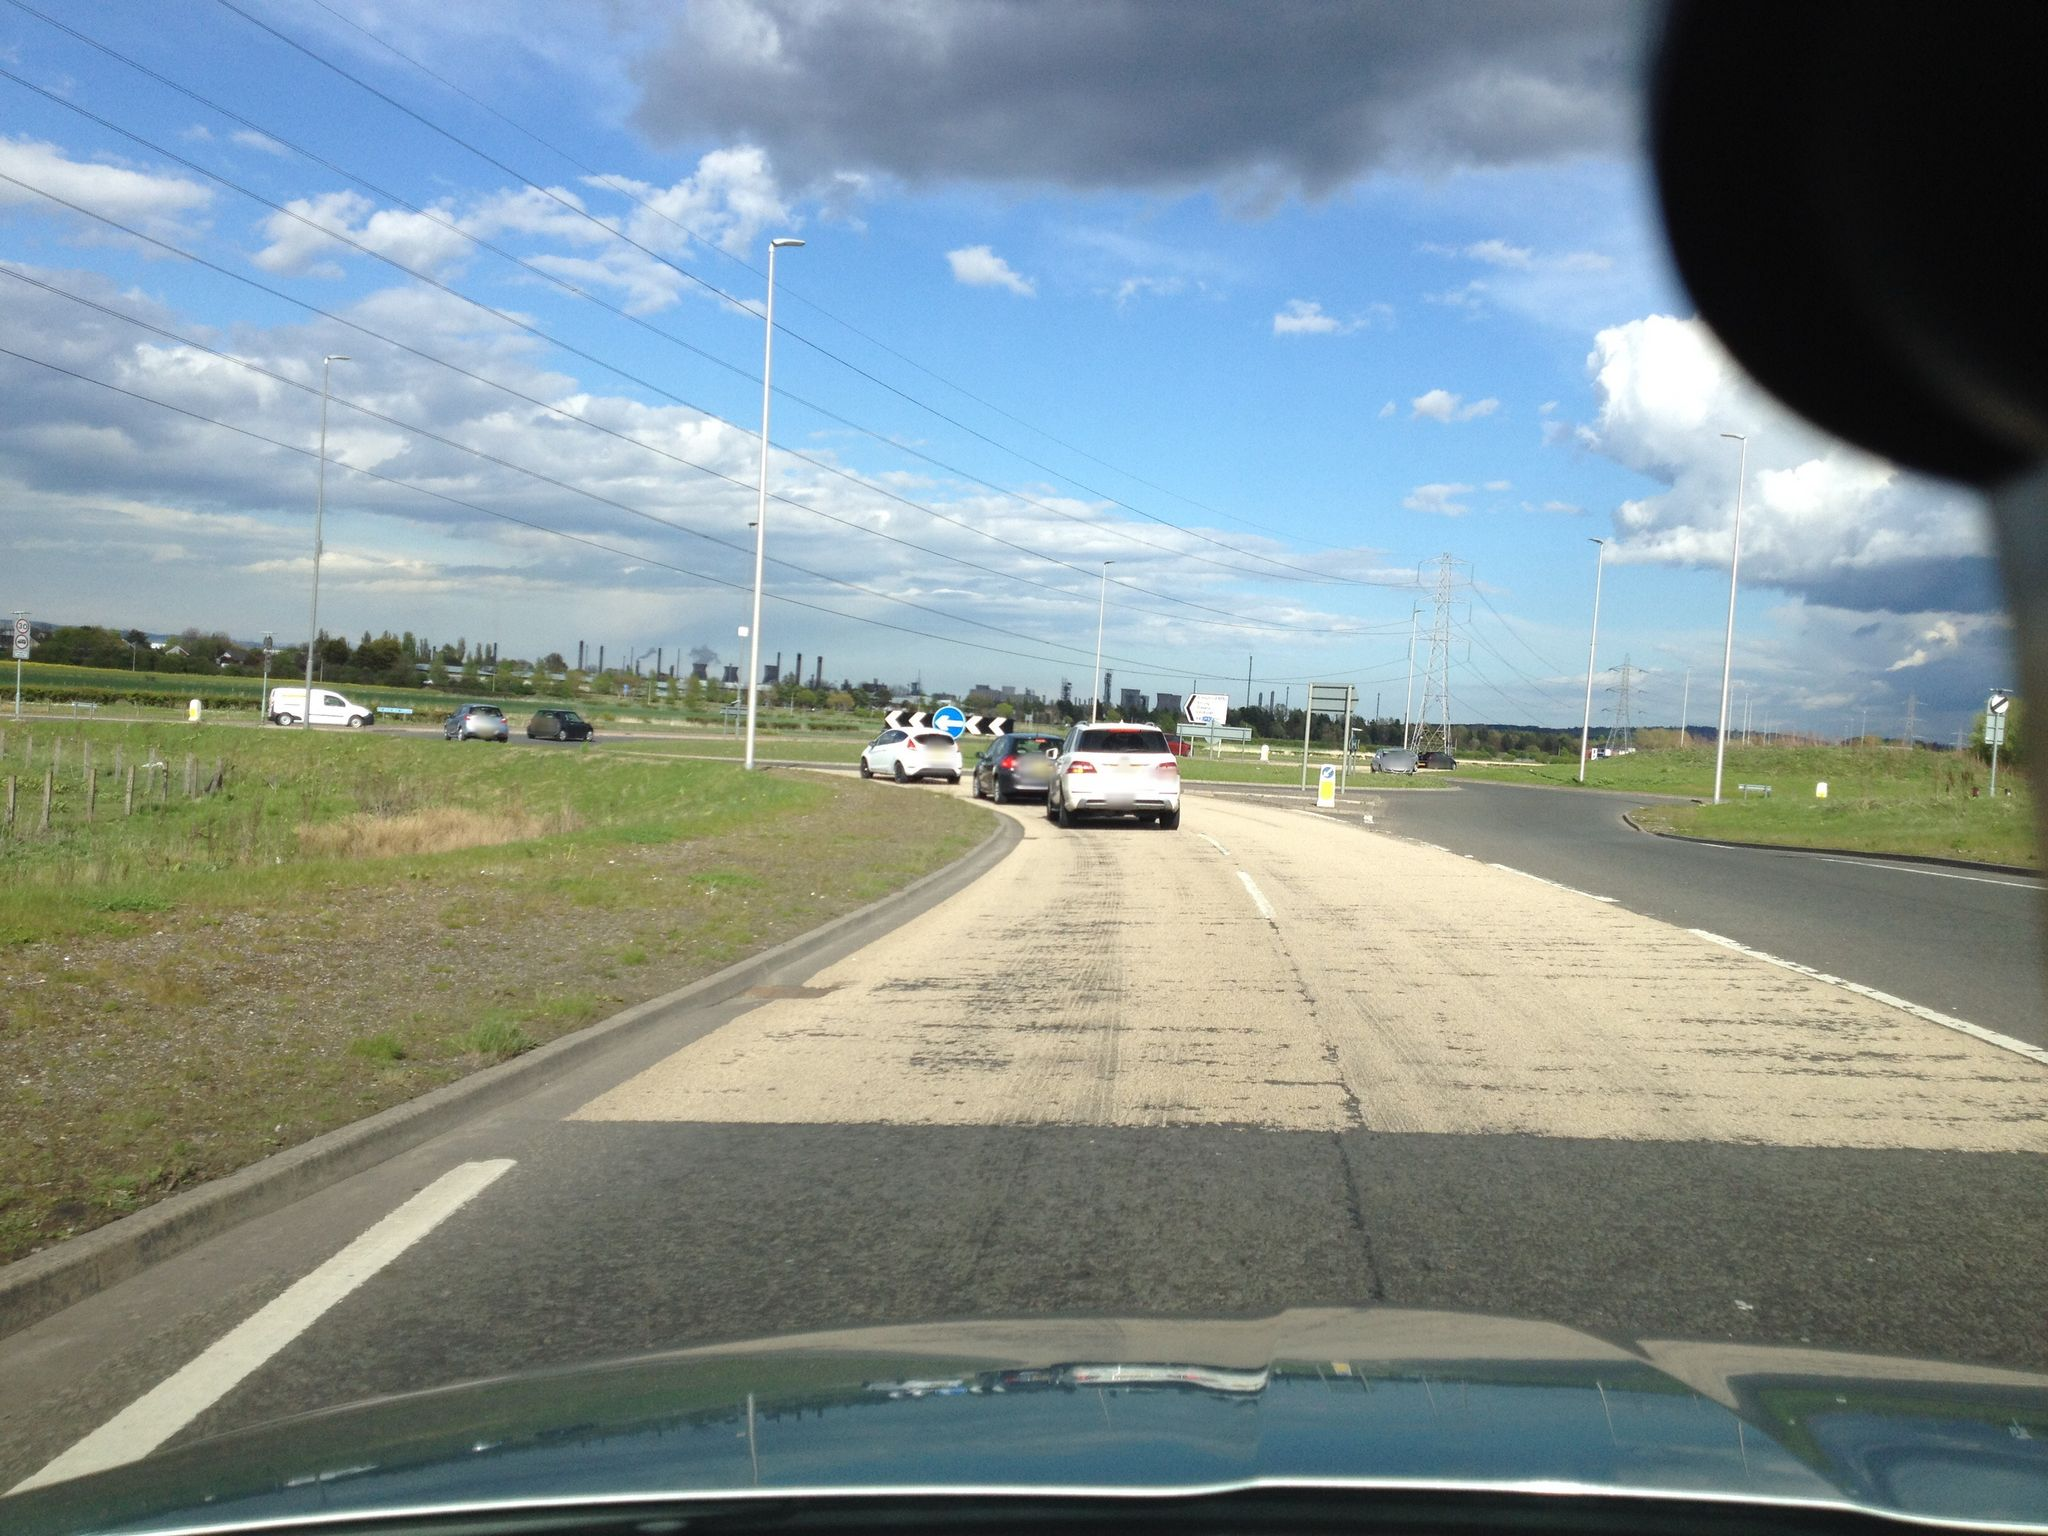car: (1045, 718, 1182, 831), (971, 729, 1064, 803), (860, 726, 963, 784), (268, 687, 376, 728), (443, 703, 506, 742), (526, 708, 593, 742)
